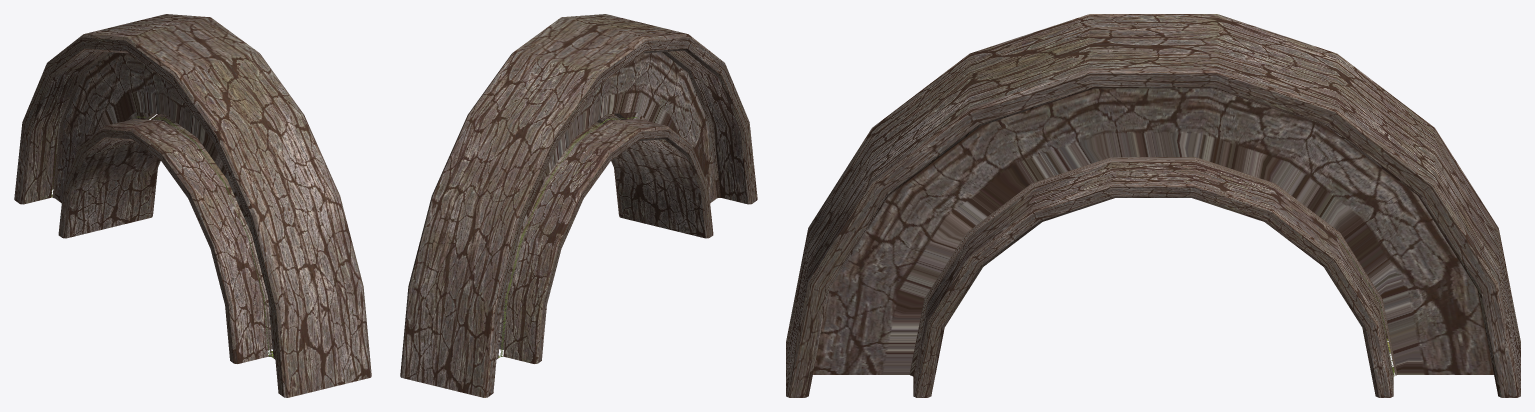
File: balk_180_lp.FBX
3 renders of one model, left to right at view 1: azimuth 30°, elevation 25°; view 2: azimuth 150°, elevation 25°; view 3: azimuth 270°, elevation 25°, orthographic. The views are drawn at different scales.
Parts seen in each view (by area): view 1: balk_180_lp; view 2: balk_180_lp; view 3: balk_180_lp.
Boxes of the visible parts, <box> form: balk_180_lp: <box>14,14,371,397</box>; balk_180_lp: <box>400,14,757,397</box>; balk_180_lp: <box>786,14,1520,397</box>.
Bounding box in the file's own units: 3.1 × 16.19 × 7.97.
